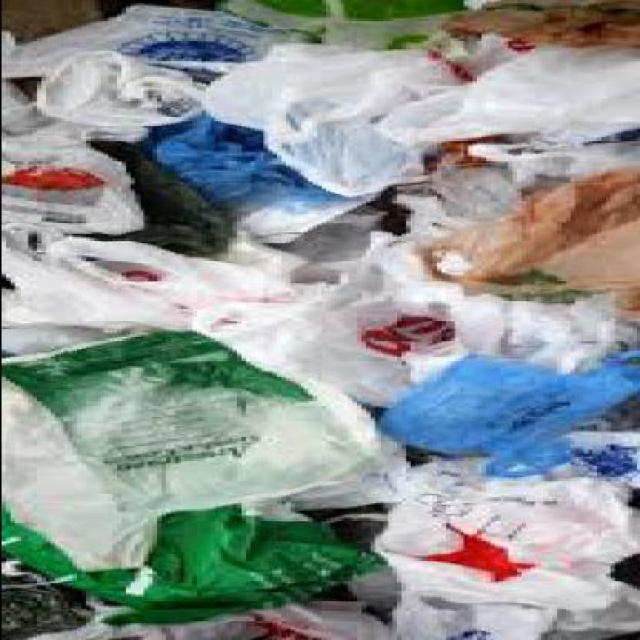PLASTIC: (2, 1, 636, 638), (2, 336, 409, 576), (191, 236, 547, 410), (240, 517, 637, 638), (0, 504, 378, 629), (196, 41, 467, 201), (364, 459, 636, 615), (369, 358, 636, 478), (409, 173, 636, 305), (2, 238, 303, 337), (364, 50, 636, 152), (378, 140, 636, 246), (2, 2, 310, 82), (13, 141, 213, 264), (396, 295, 636, 390), (2, 81, 143, 242), (129, 113, 325, 205), (27, 53, 239, 130), (191, 1, 475, 51), (17, 596, 303, 638), (414, 1, 635, 51), (205, 191, 377, 247), (2, 548, 86, 638), (2, 289, 108, 360), (2, 2, 108, 48)
